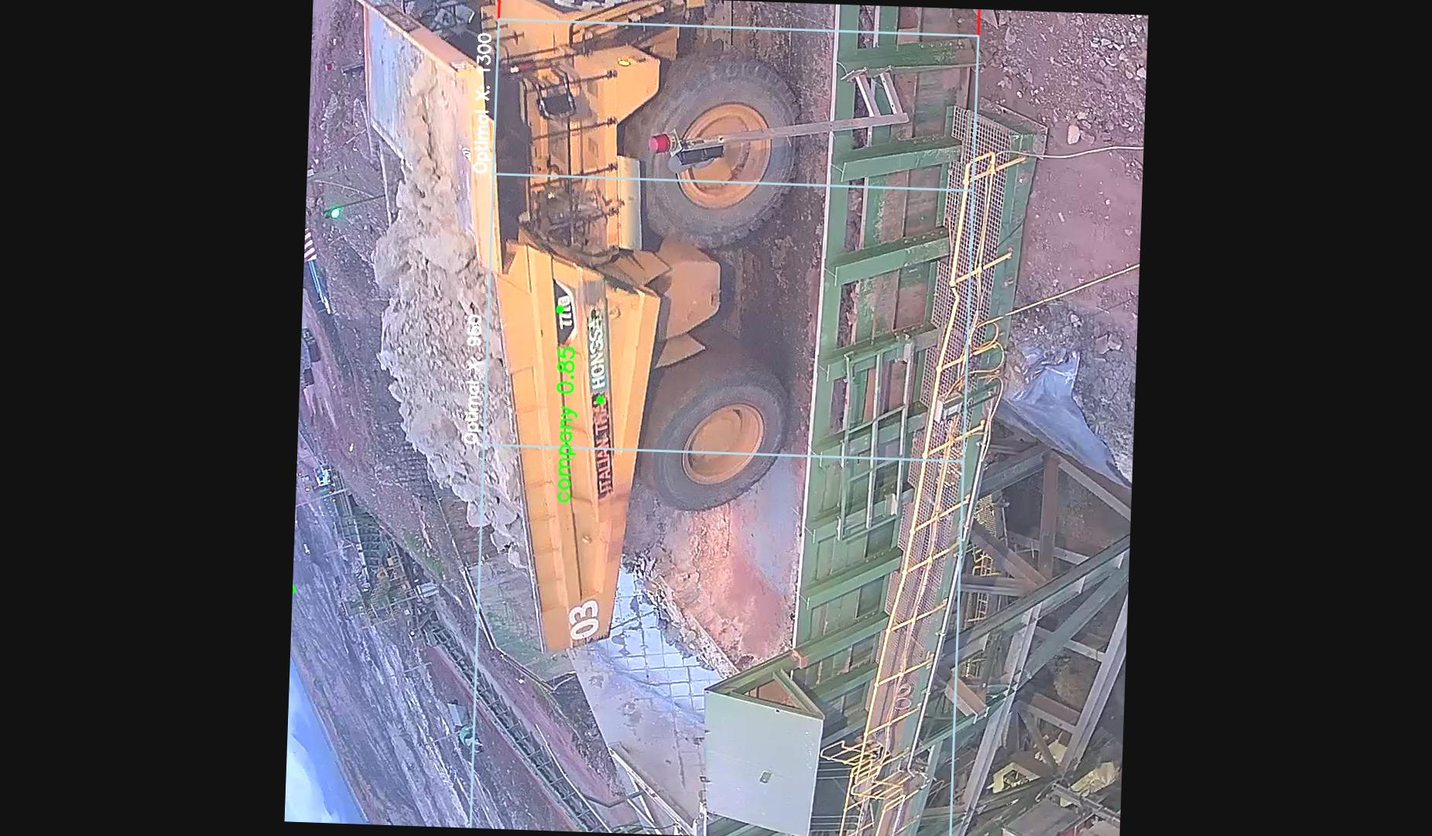company: (575, 302, 620, 502)
full_load: (349, 238, 534, 494)
mining_truck: (303, 0, 814, 677)
tail_number: (553, 589, 612, 651)
truck_size: (545, 277, 582, 357)
